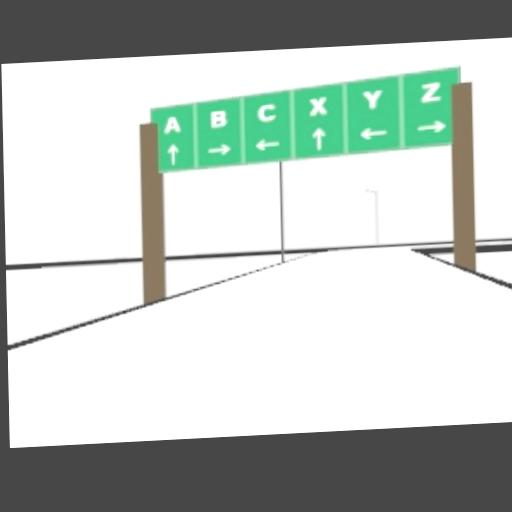A: (165, 117, 181, 134)
B: (210, 109, 226, 128)
C: (257, 103, 275, 122)
Left: (357, 126, 388, 140), (254, 137, 281, 150)
Right: (416, 119, 444, 133), (206, 143, 231, 155)
Straight: (311, 128, 326, 150), (167, 144, 178, 165)
X: (308, 95, 327, 116)
Y: (362, 88, 383, 109)
Z: (420, 80, 441, 101)
